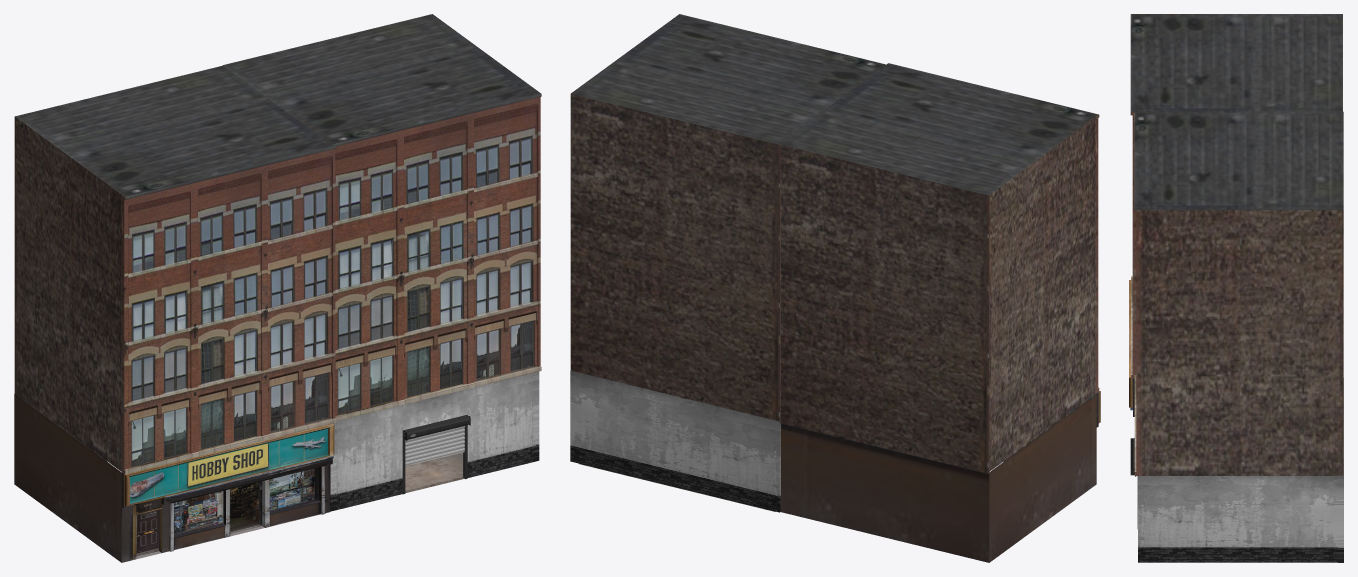
The model's file is storage.fbx.
3 renders of one model, left to right at view 1: azimuth 30°, elevation 25°; view 2: azimuth 150°, elevation 25°; view 3: azimuth 270°, elevation 25°, orthographic. The views are drawn at different scales.
Visible parts, largest first — view 1: Object_6.001, Object_6.002, Plane.001, Cube.131, SM_RollingDoor_Door_Bollard_0.001, Cube.134, SM_RollingDoor_Door_Bollard_0; view 2: Object_6.001, Object_6.002, Plane.001, Cube.131; view 3: Object_6.002, Object_6.001, Cube.131, Plane.001.
Boxes of the visible parts, bbox=[...] form: Object_6.001: bbox=[14, 65, 336, 474]; Object_6.002: bbox=[223, 14, 541, 420]; Plane.001: bbox=[14, 393, 334, 562]; Cube.131: bbox=[330, 371, 539, 511]; SM_RollingDoor_Door_Bollard_0.001: bbox=[405, 426, 464, 466]; Cube.134: bbox=[405, 452, 464, 493]; SM_RollingDoor_Door_Bollard_0: bbox=[402, 415, 470, 494]; Object_6.001: bbox=[778, 63, 1099, 473]; Object_6.002: bbox=[570, 14, 885, 421]; Plane.001: bbox=[780, 391, 1100, 562]; Cube.131: bbox=[570, 370, 780, 512]; Object_6.002: bbox=[1134, 111, 1343, 475]; Object_6.001: bbox=[1130, 14, 1342, 378]; Cube.131: bbox=[1138, 378, 1343, 562]; Plane.001: bbox=[1129, 280, 1134, 416].
Size of the model in its own units: 1015 by 858 by 470.
7 materials, 7 textured.
